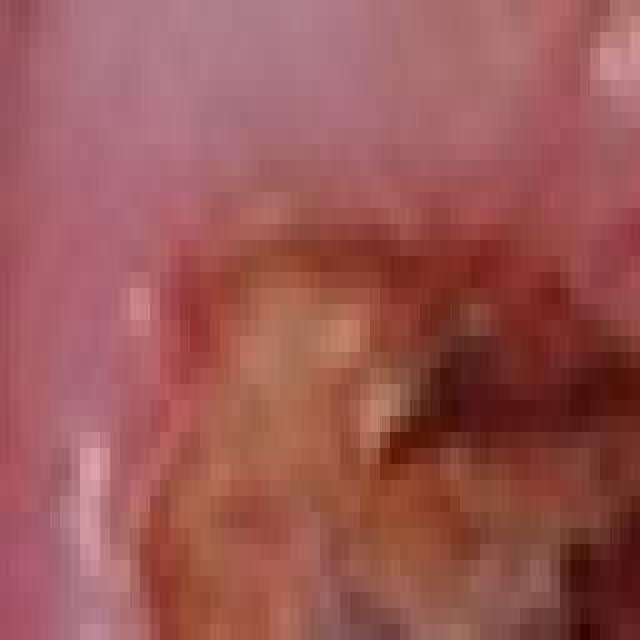cavities: (120, 112, 640, 640)
